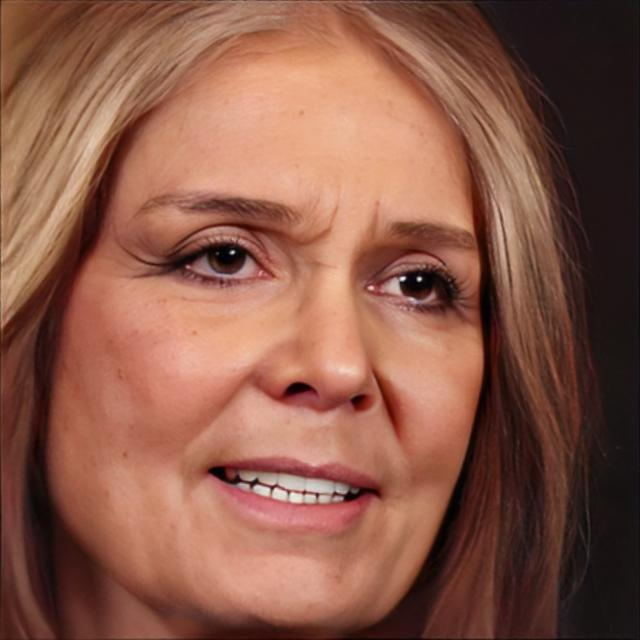disgust: (42, 24, 488, 640)
